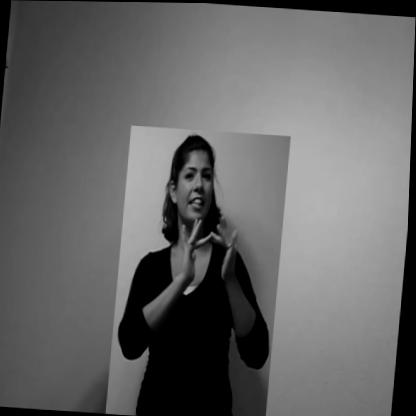Internet: (108, 124, 291, 416)
